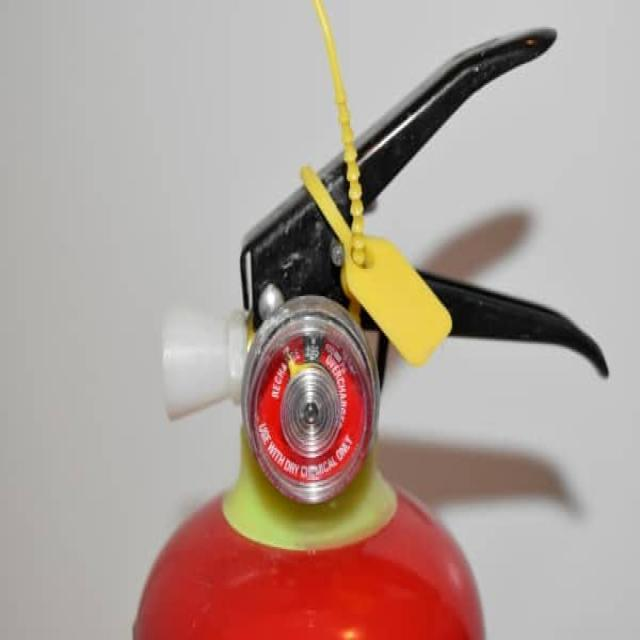pressure gauge: (242, 296, 379, 503)
